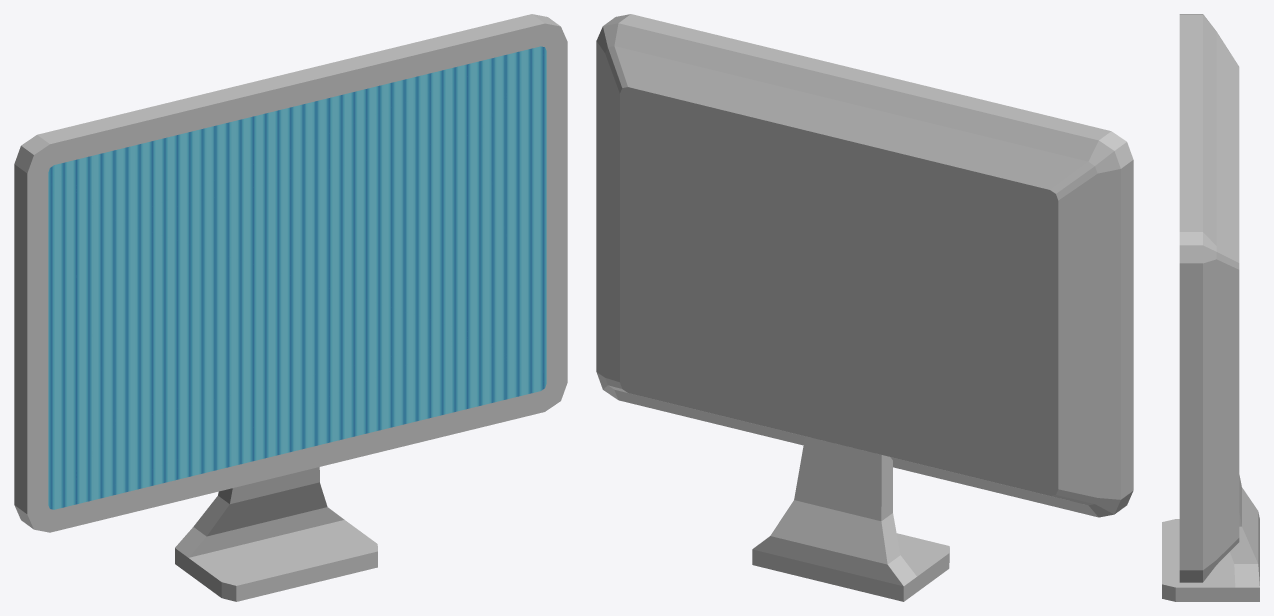
File: scene_computer.fbx
The picture shows the model from 3 angles, left to right: view 1: azimuth 30°, elevation 25°; view 2: azimuth 150°, elevation 25°; view 3: azimuth 270°, elevation 25°; orthographic projection. The views are drawn at different scales.
Parts seen in each view (by area): view 1: computer; view 2: computer; view 3: computer.
Boxes of the visible parts, x1,y1,x2,y2 form: computer: (14, 14, 567, 601); computer: (596, 14, 1133, 601); computer: (1162, 14, 1259, 601).
Size of the model in its own units: 87.5 by 76.39 by 15.25.
